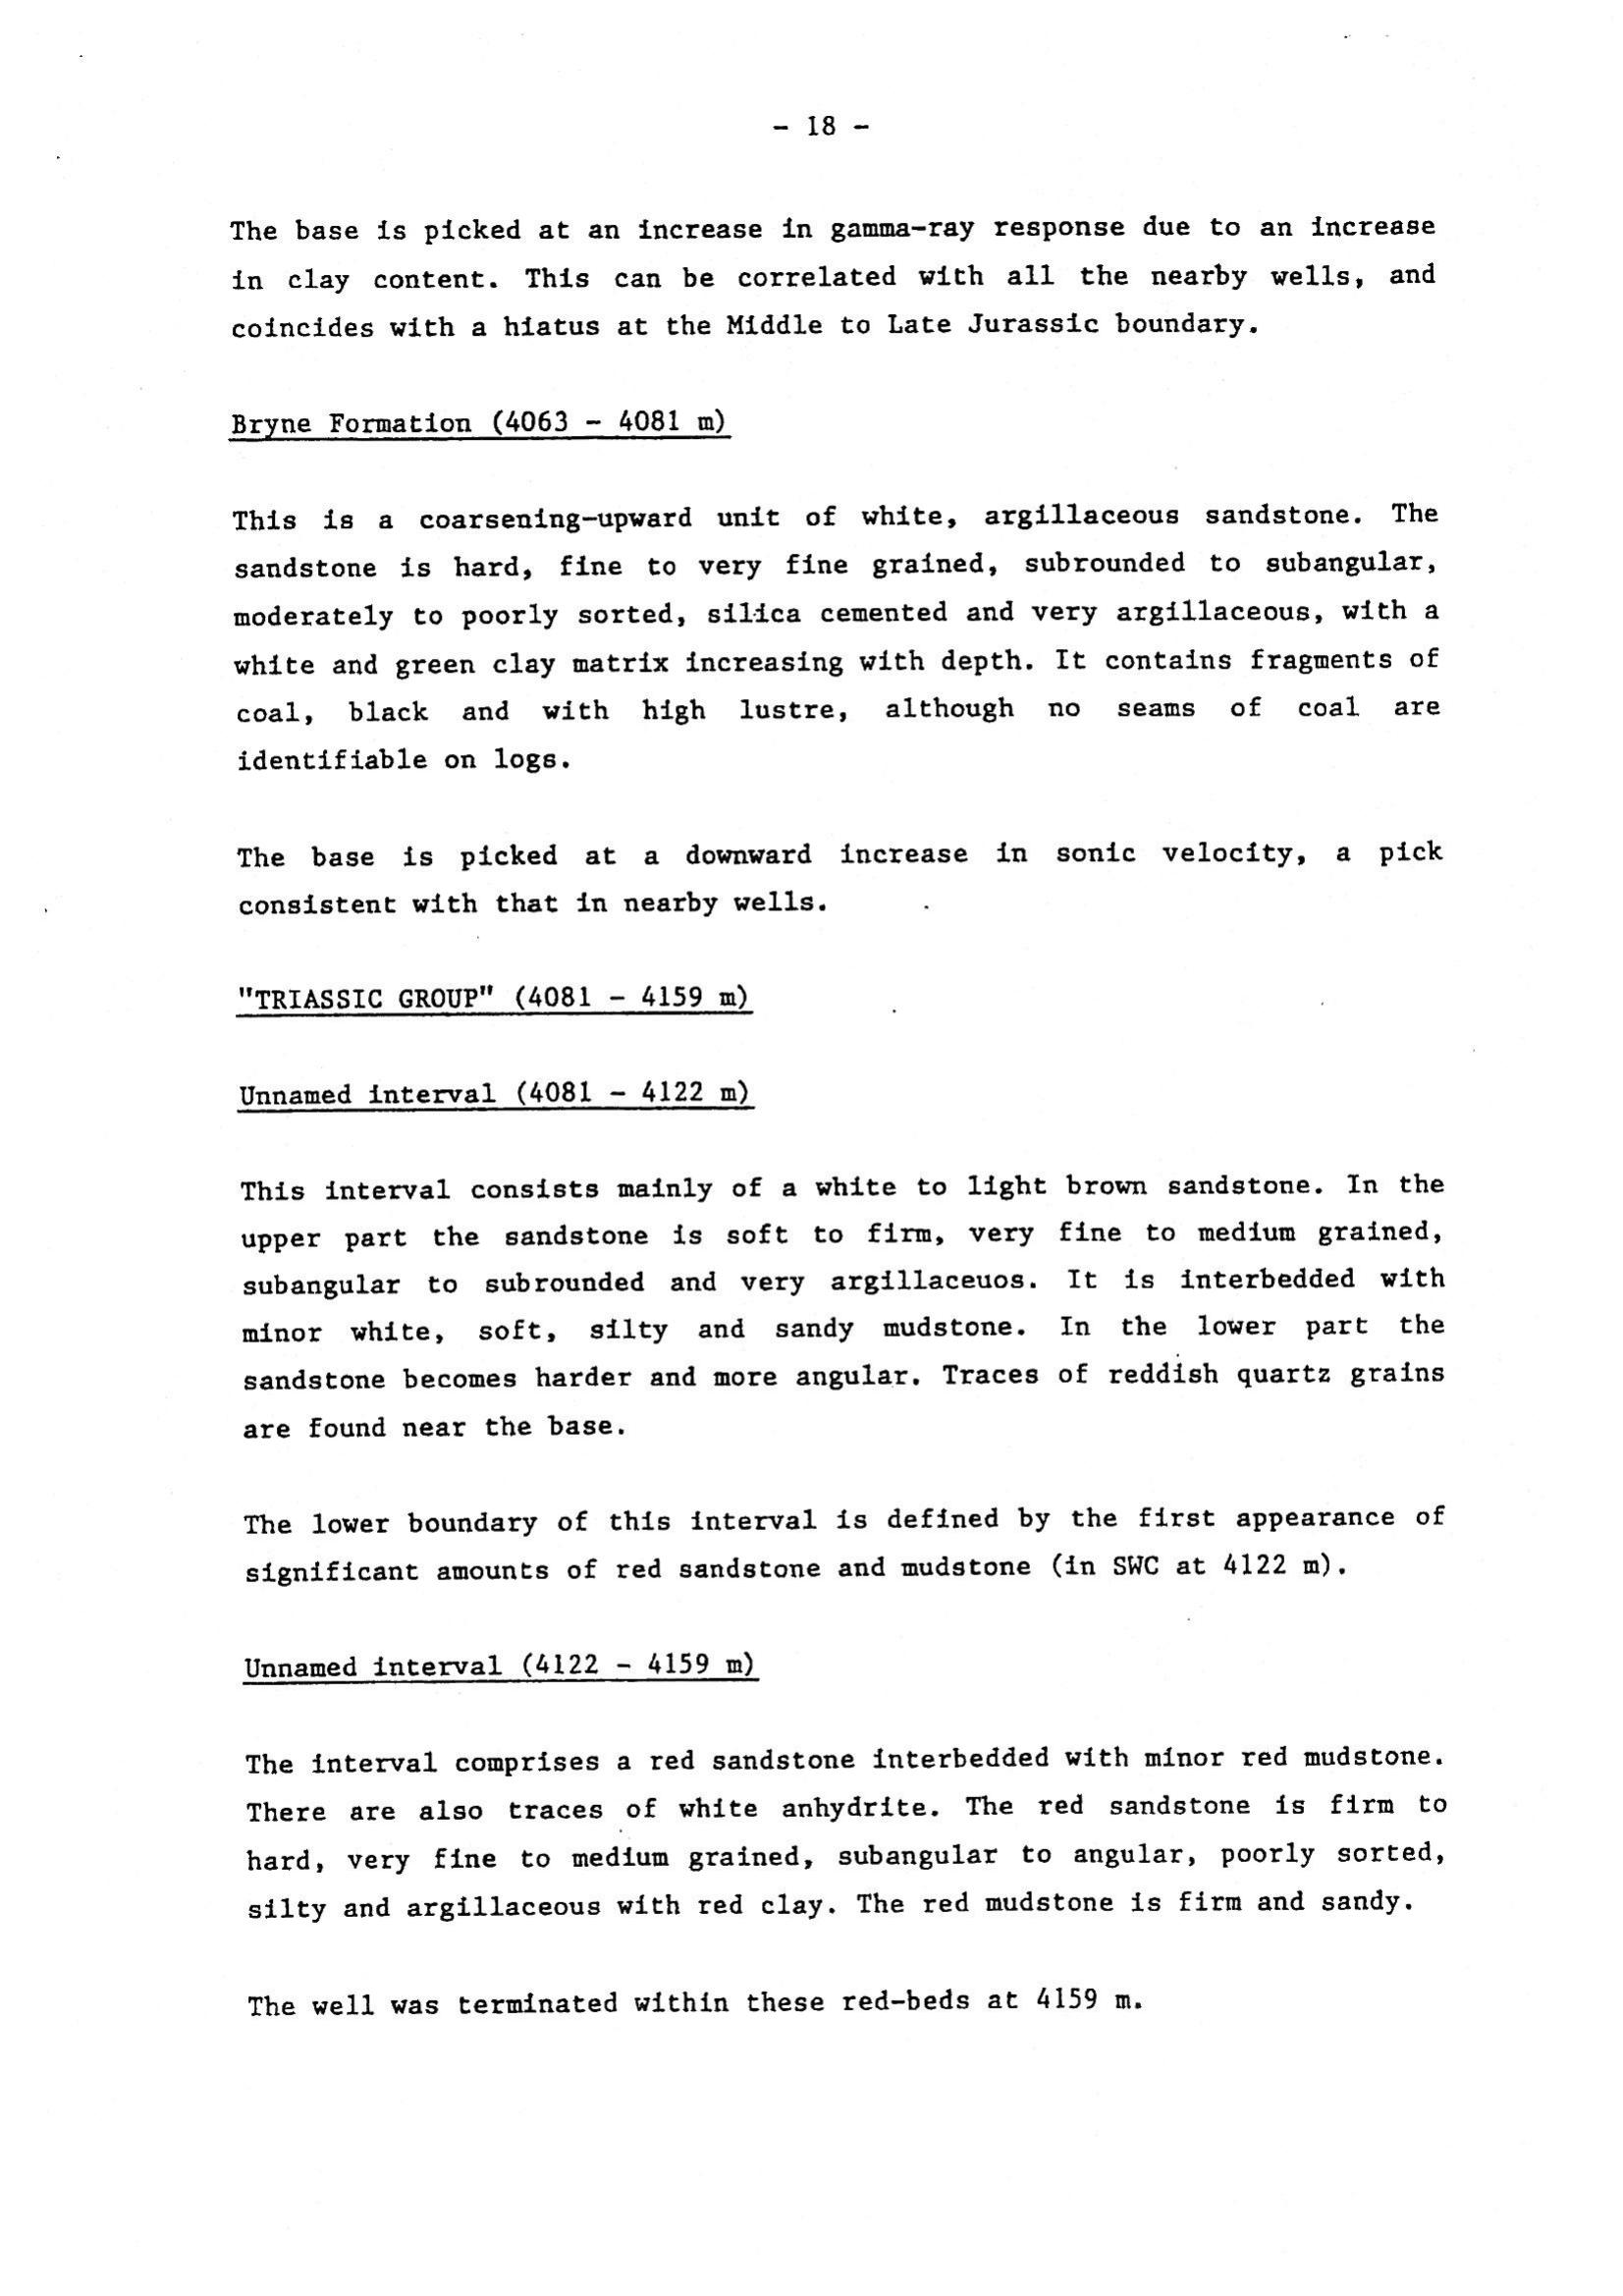text: (195, 181, 1479, 2066)
